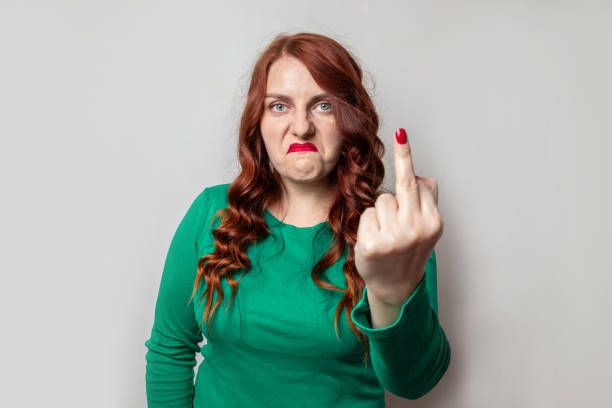insulting_gesture: (352, 121, 442, 285)
